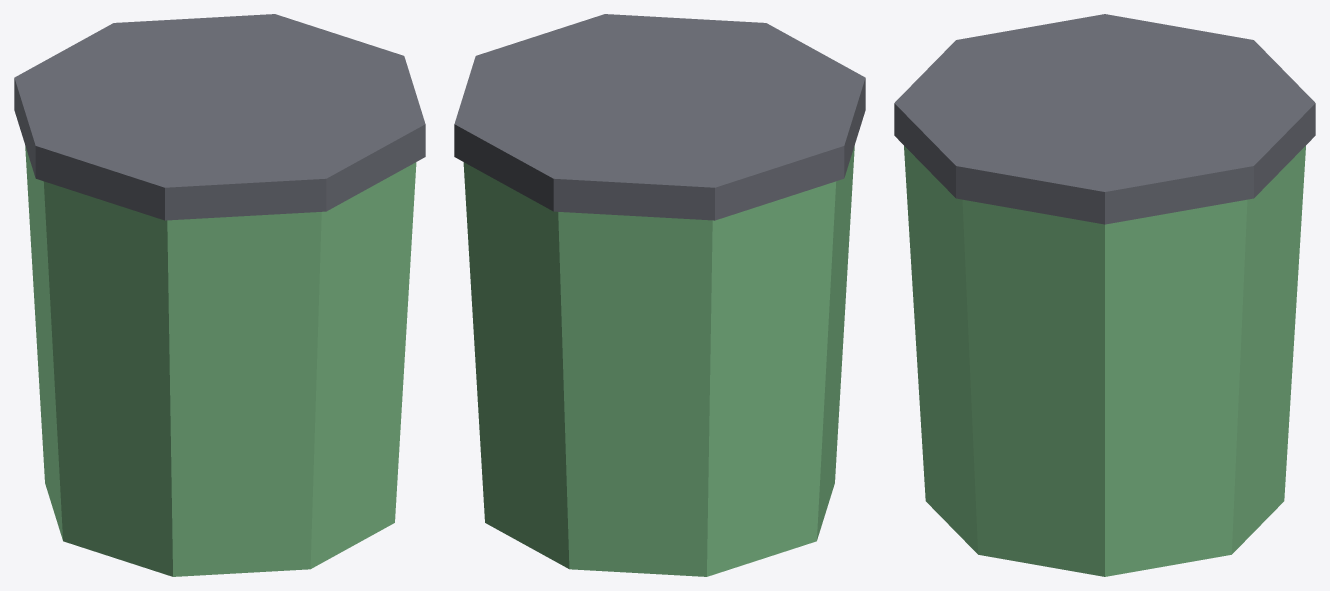
Rendered from bin.glb.
3 renders of one model, left to right at view 1: azimuth 30°, elevation 25°; view 2: azimuth 150°, elevation 25°; view 3: azimuth 270°, elevation 25°, orthographic.
Visible parts, largest first — view 1: bin; view 2: bin; view 3: bin.
Boxes of the visible parts, x1=… form: bin: x1=14, y1=14, x2=425, y2=576; bin: x1=454, y1=14, x2=865, y2=576; bin: x1=894, y1=14, x2=1315, y2=576.
Size of the model in its own units: 0.94 by 0.98 by 0.94.
